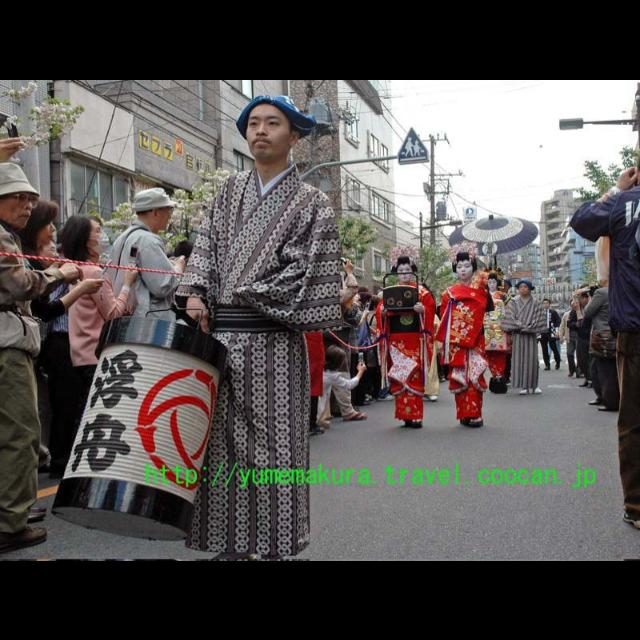head: (246, 93, 302, 161), (0, 173, 36, 228), (18, 199, 58, 245), (65, 216, 111, 254), (136, 191, 172, 231), (456, 256, 476, 282), (326, 348, 346, 370), (396, 260, 414, 282), (487, 274, 501, 292), (519, 278, 533, 296), (544, 298, 552, 310)
person: (172, 92, 342, 556), (64, 211, 140, 495), (0, 162, 50, 554), (112, 187, 182, 456), (434, 238, 502, 430), (18, 196, 60, 504), (373, 242, 439, 432), (264, 344, 366, 438), (505, 278, 547, 396), (485, 269, 511, 399), (538, 290, 566, 376)
